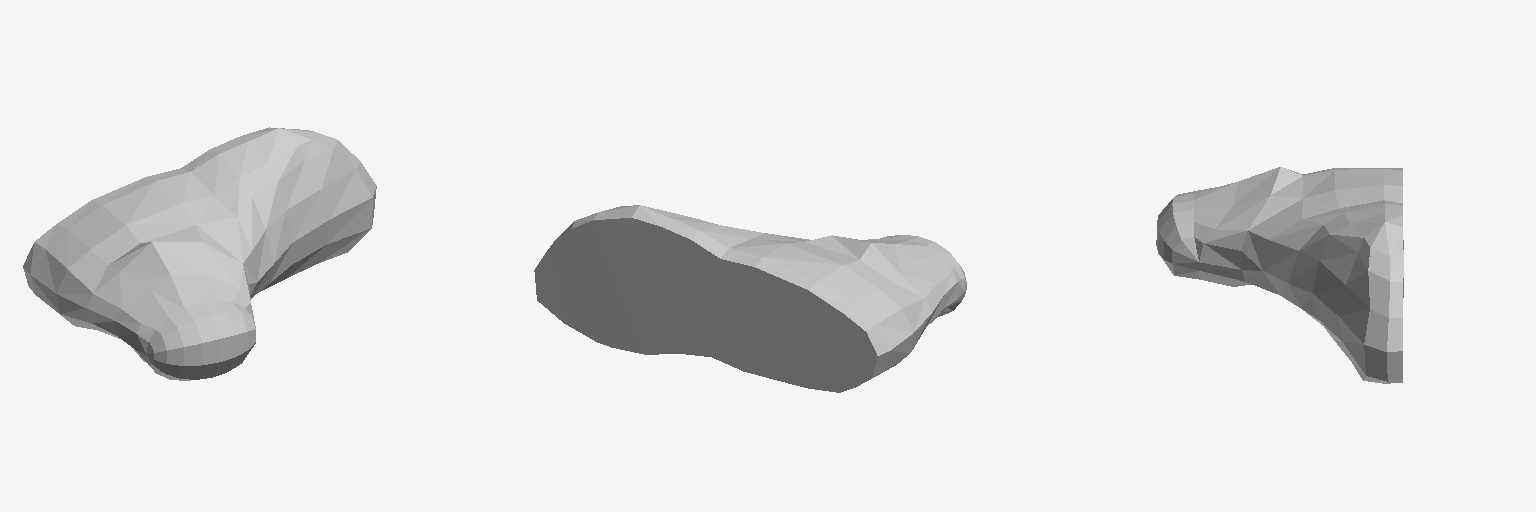
The model's file is L_LEG_FOOT_.obj.
The picture shows the model from 3 angles: view 1: azimuth 30°, elevation 25°; view 2: azimuth 150°, elevation 25°; view 3: azimuth 270°, elevation 25°; orthographic projection.
Size of the model in its own units: 0.257 by 0.0999 by 0.1579.